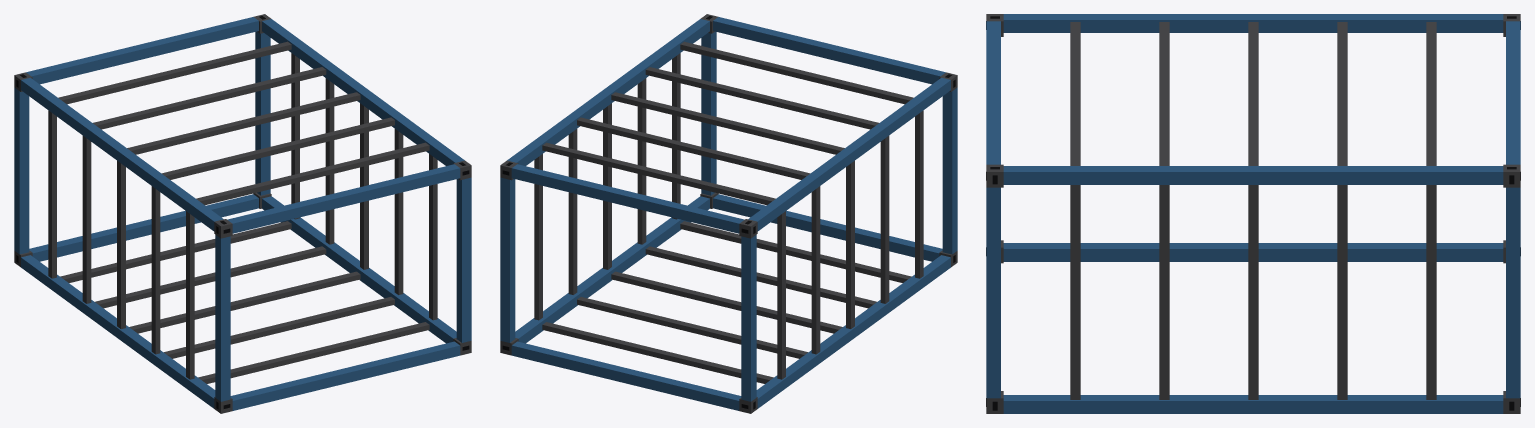
Rendered from hold100_frame.obj.
The picture shows the model from 3 angles, left to right: view 1: azimuth 30°, elevation 25°; view 2: azimuth 150°, elevation 25°; view 3: azimuth 270°, elevation 25°; orthographic projection. The views are drawn at different scales.
Visible parts, largest first — view 1: hold100_frame; view 2: hold100_frame; view 3: hold100_frame.
Boxes of the visible parts, <box> form: hold100_frame: <box>14,14,471,413</box>; hold100_frame: <box>500,14,957,413</box>; hold100_frame: <box>986,14,1520,413</box>.
Bounding box in the file's own units: 5.2 × 3.72 × 7.43.
